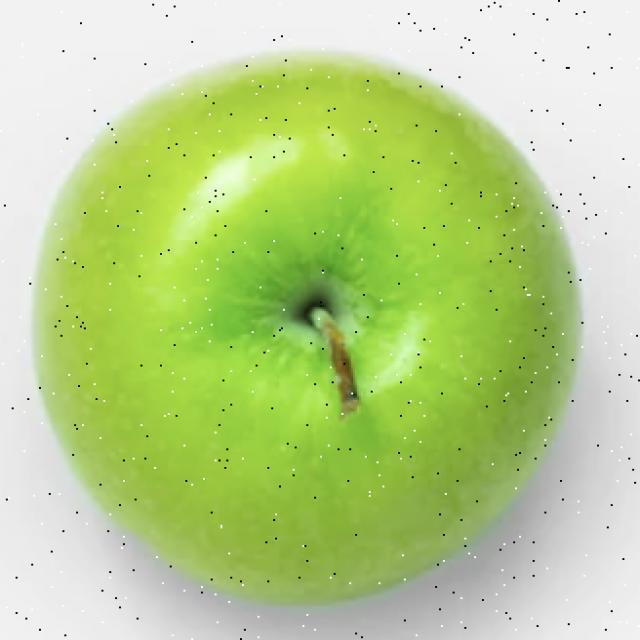Fresh Apple: (60, 67, 580, 600)
